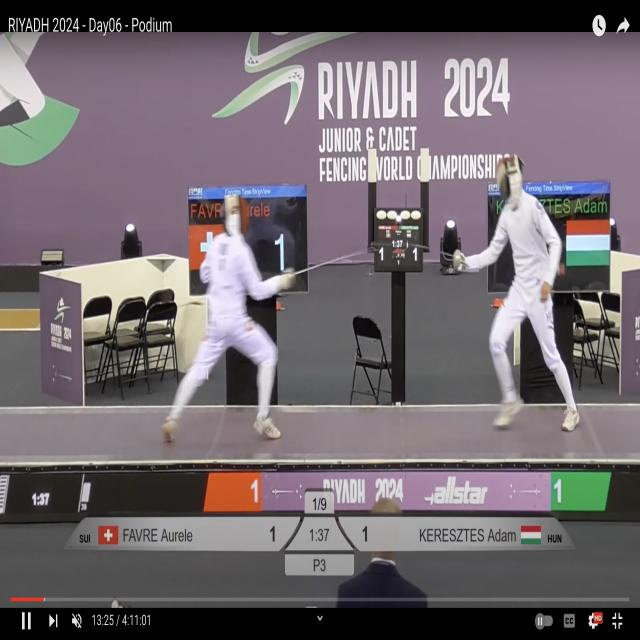fencer: (456, 152, 585, 444), (156, 182, 296, 448)
overlayLeft: (65, 514, 251, 551)
overlayRight: (381, 517, 578, 552)
scoreLeft: (257, 511, 303, 552)
scoreRight: (335, 517, 373, 551)
